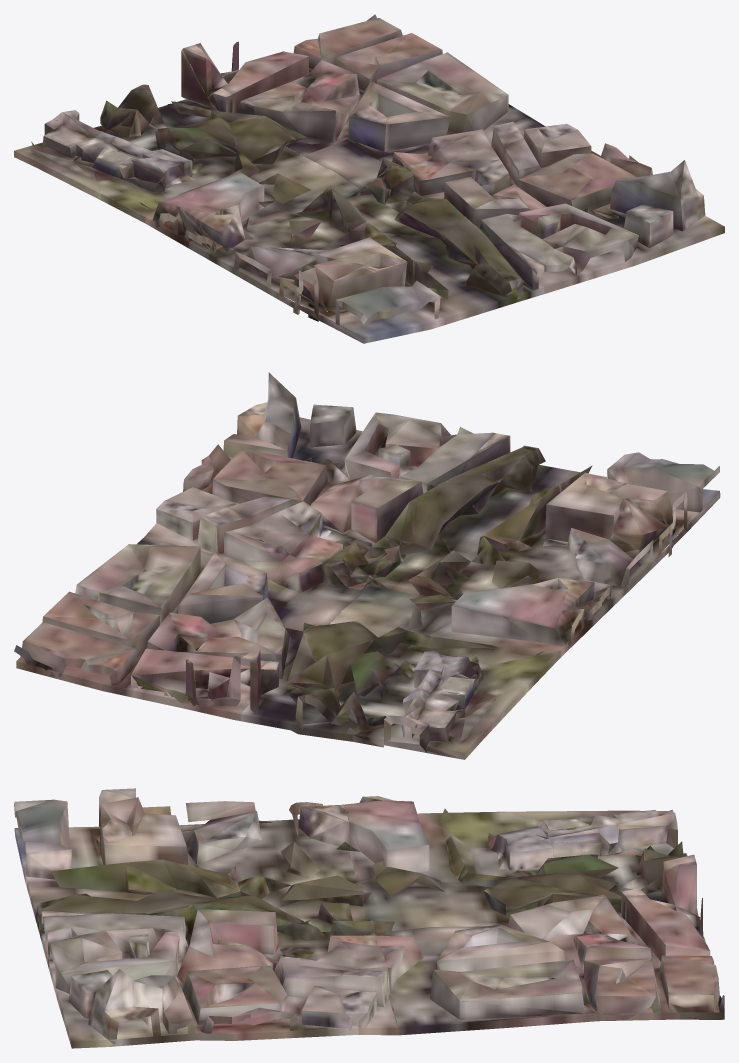
The picture shows the model from 3 angles, top to bottom: view 1: azimuth 30°, elevation 25°; view 2: azimuth 150°, elevation 25°; view 3: azimuth 270°, elevation 25°; orthographic projection. The views are drawn at different scales.
Visible parts, largest first — view 1: Mesh_0; view 2: Mesh_0; view 3: Mesh_0.
Boxes of the visible parts, left/top/right/bottom form: Mesh_0: left=14, top=14, right=724, bottom=343; Mesh_0: left=14, top=372, right=720, bottom=759; Mesh_0: left=14, top=788, right=724, bottom=1048.
Size of the model in its own units: 532 by 88.8 by 660.
2 materials, 2 textured.
